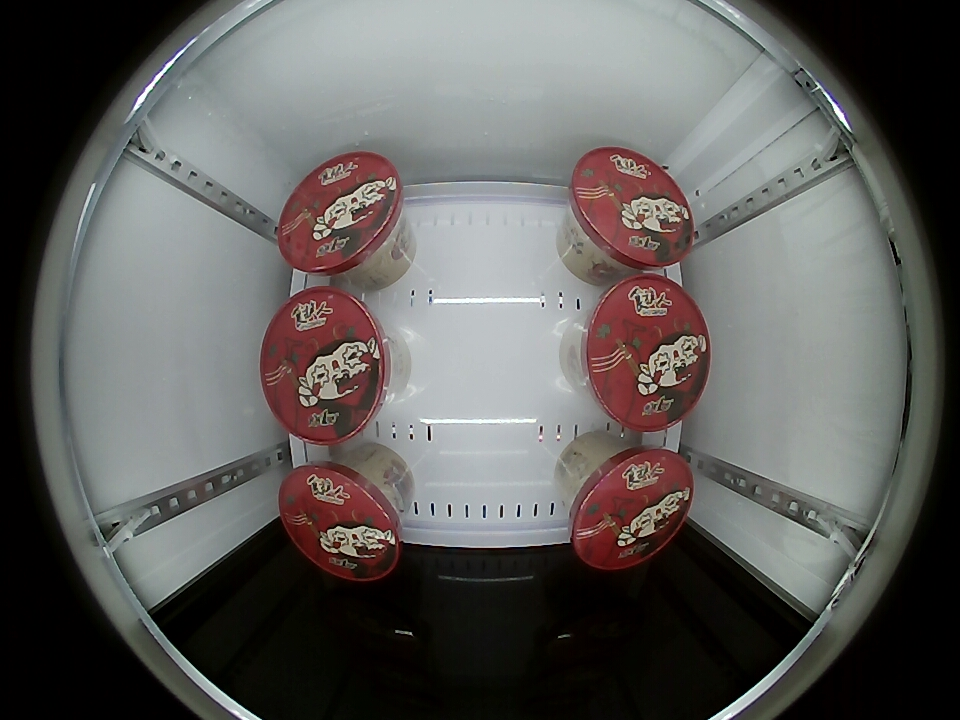suanlafen: (260, 286, 395, 446), (579, 273, 711, 431), (277, 152, 406, 276), (567, 446, 695, 569), (567, 147, 695, 270), (278, 461, 405, 581)
